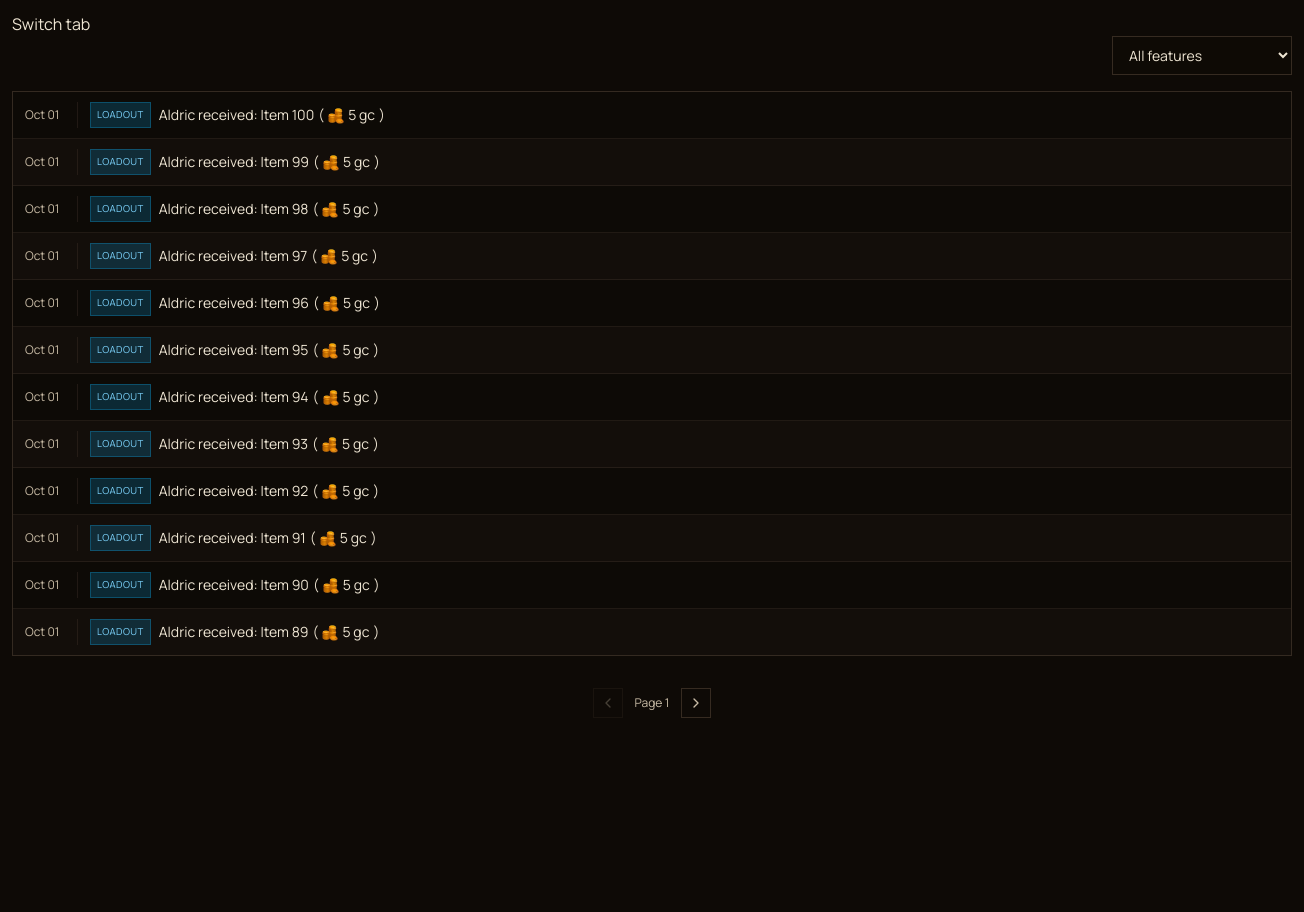
Test: LogsTab › lists a child entry as a row of its own, with the purchase's quantity and price (ECON-UX-04, pinned; flips in PR C)
This screenshot has width=1304, height=912.
Expected: the text "Page 1" is shown, left=635, top=695, right=669, bottom=711
Click the button named "Next page" at (696, 703), box left=681, top=688, right=711, bottom=718
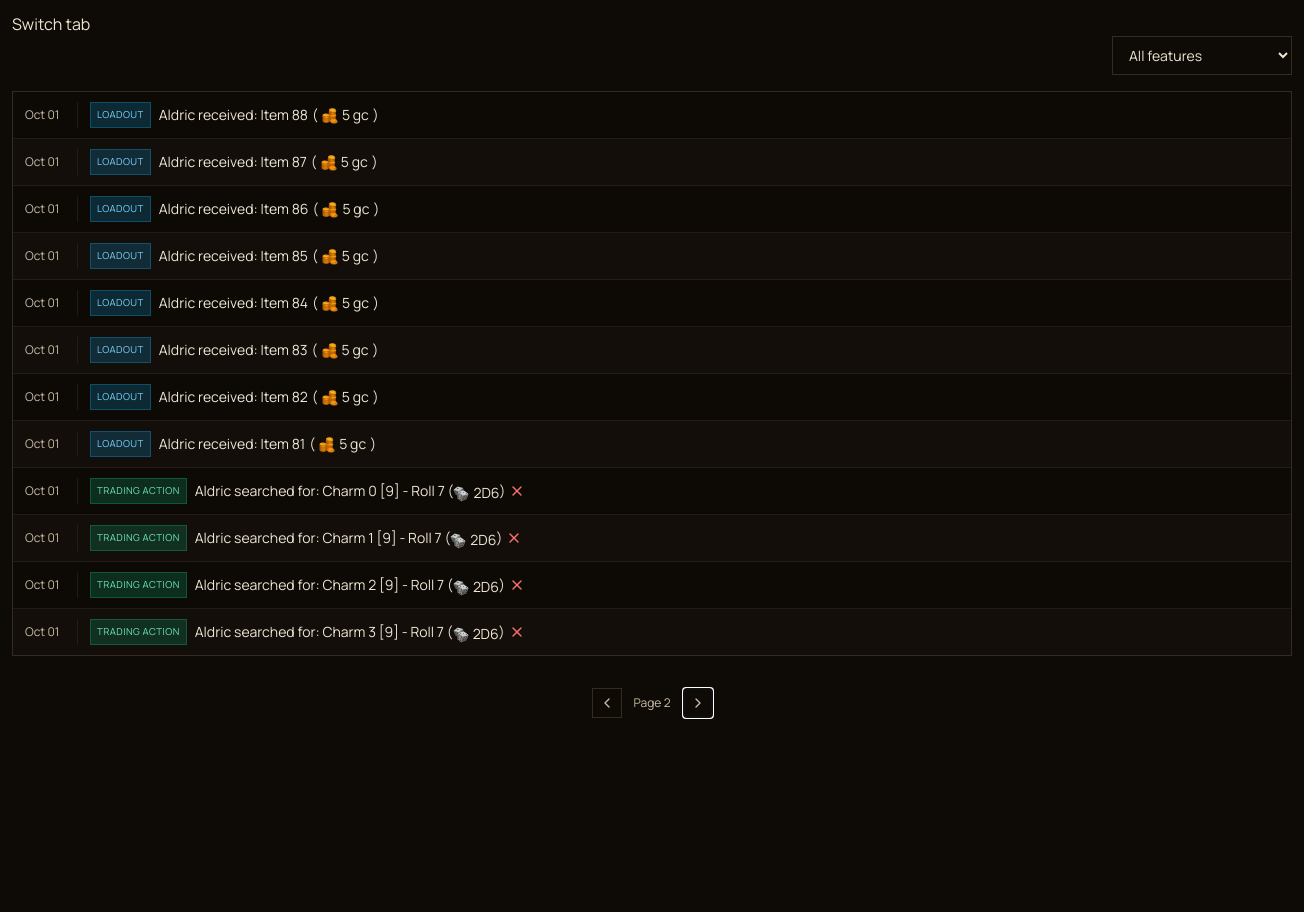
Result: the text "Page 2" is shown at left=634, top=695, right=670, bottom=711
Click the button named "Next page" at (698, 703), box left=682, top=688, right=712, bottom=718
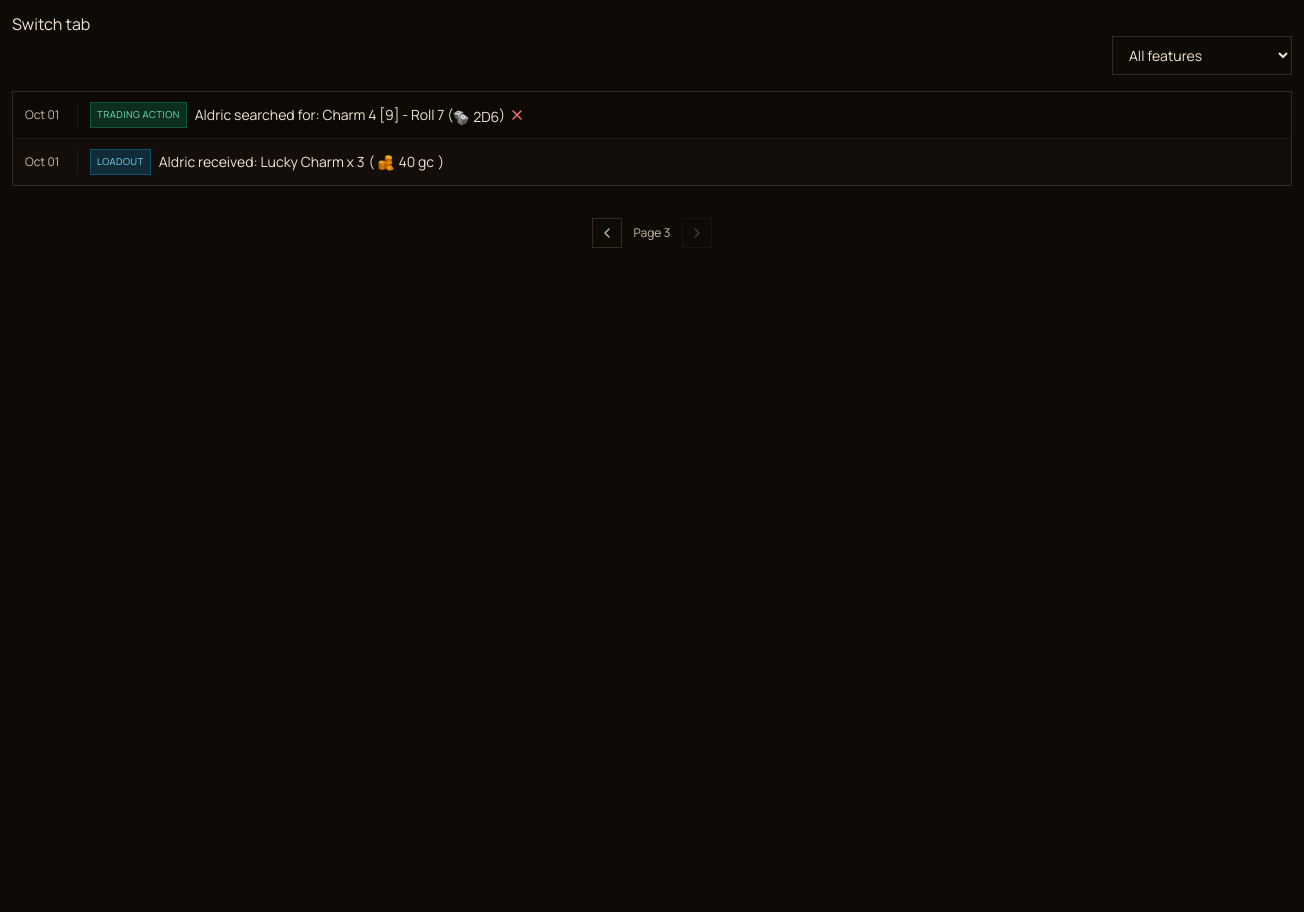
Result: the text "Page 3" is shown at left=634, top=225, right=670, bottom=241
Result: the text "Aldric received: Lucky Charm x 3" is shown at left=159, top=152, right=364, bottom=172
Result: the text "40 gc" is shown at left=398, top=155, right=434, bottom=169
